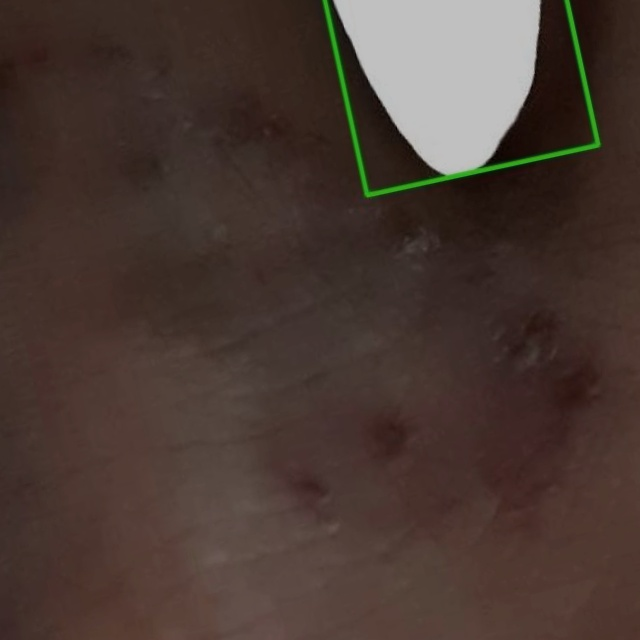Contact Dermatitis: (324, 0, 598, 195)
